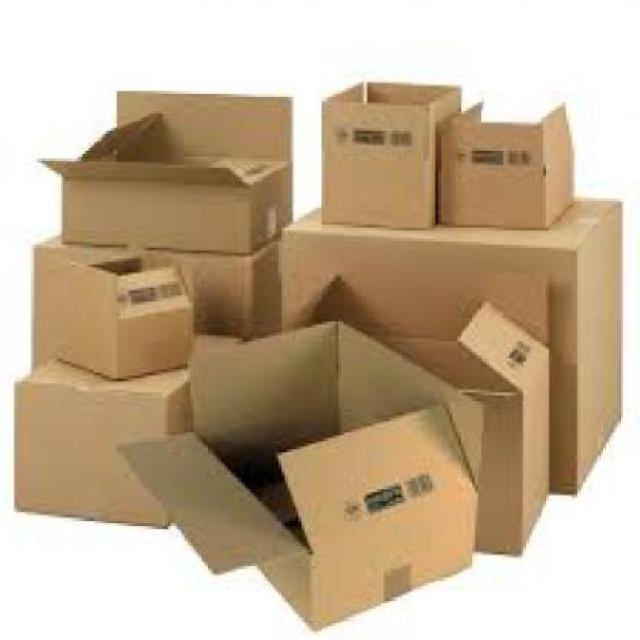CARDBOARD: (123, 318, 486, 630), (282, 196, 623, 498), (296, 264, 555, 554), (17, 327, 245, 530), (35, 228, 287, 402), (46, 91, 299, 254), (322, 80, 466, 225), (42, 250, 196, 381), (442, 95, 583, 230)
